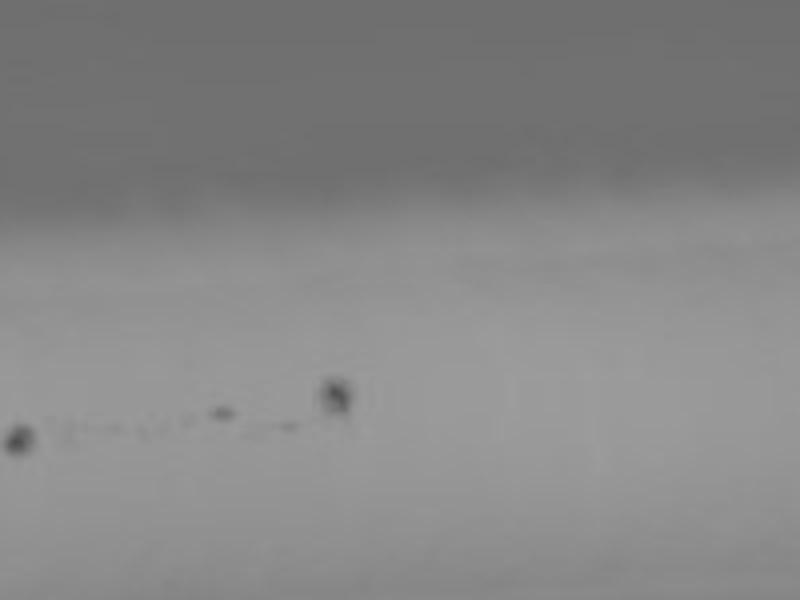defect: (315, 376, 354, 413), (43, 418, 80, 449), (5, 427, 38, 452), (274, 418, 301, 435), (208, 406, 236, 422), (179, 409, 201, 428), (134, 423, 150, 442), (108, 423, 123, 434)
